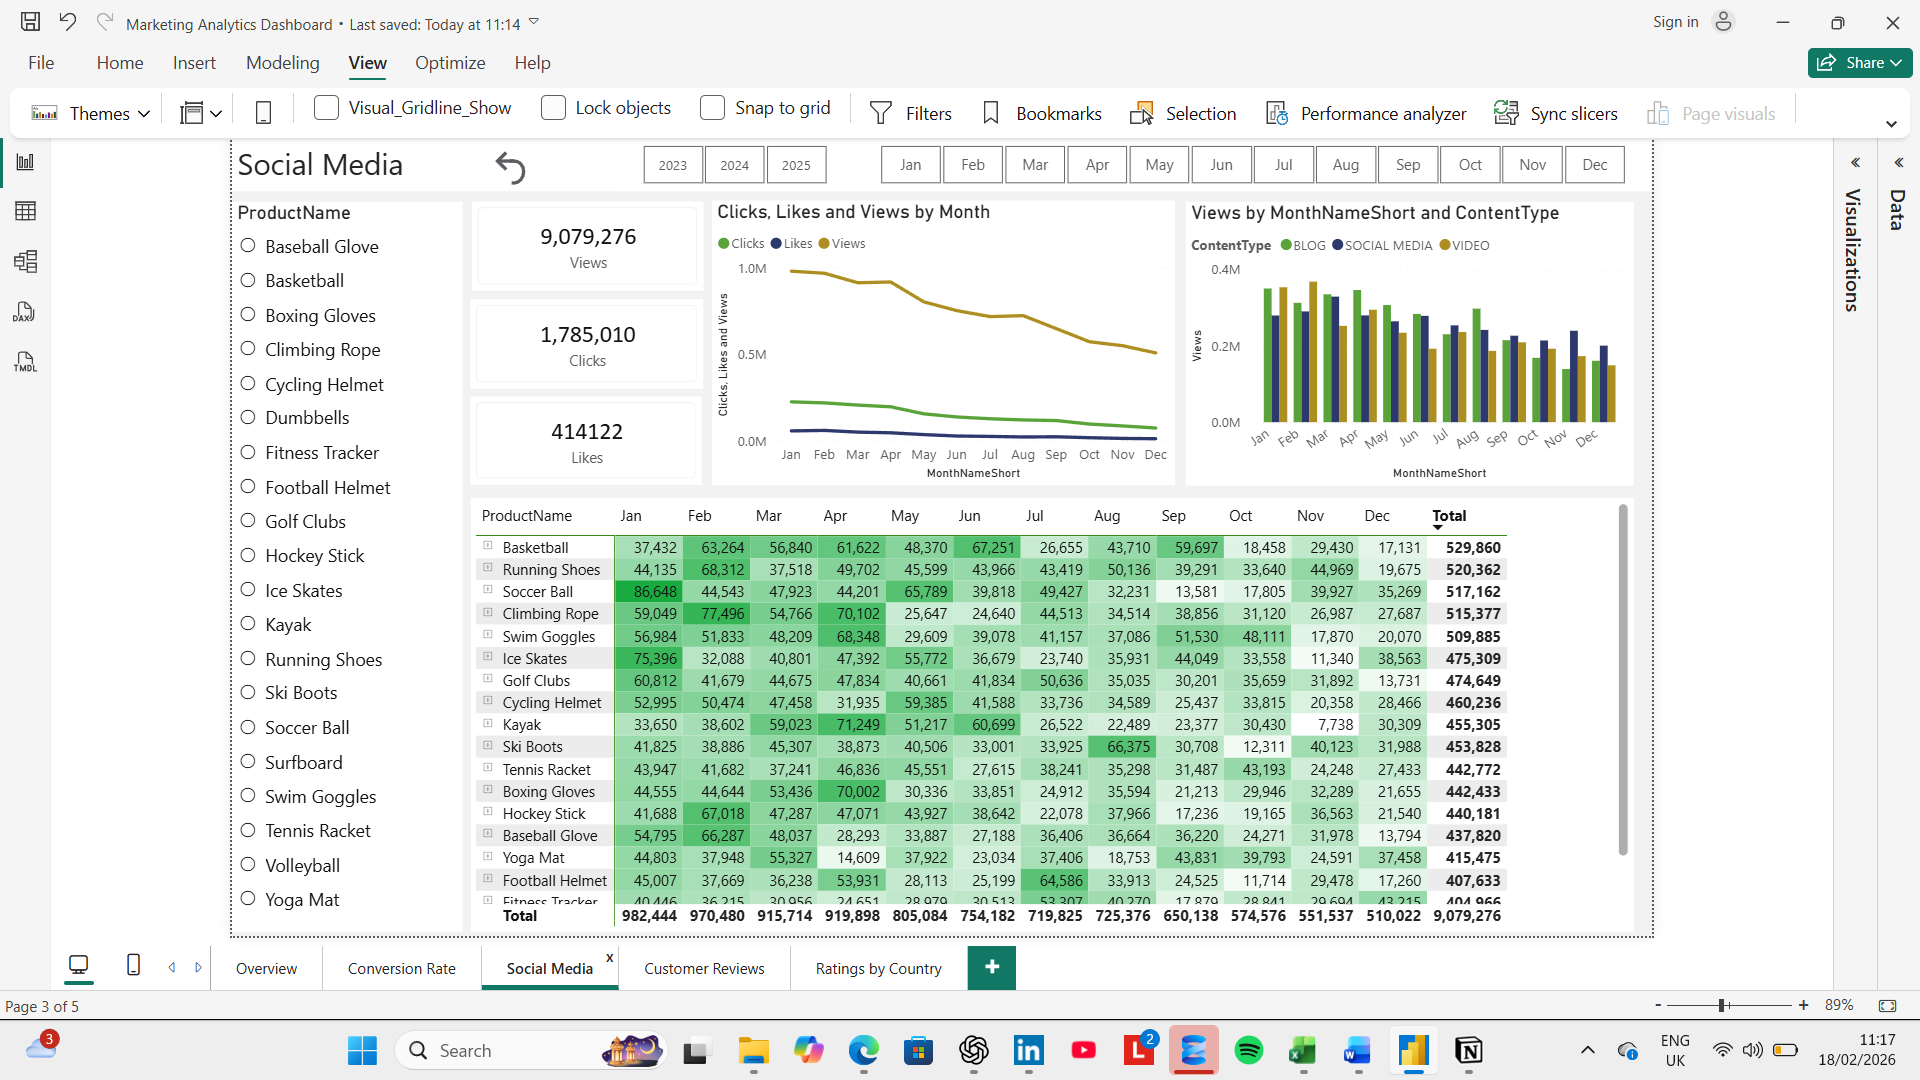

This screenshot's page, from the dashboard's own definition file:
{"tool":"powerbi","page":{"name":"Social Media","canvas":[1280,720],"ordinal":2},"visuals":[{"type":"textbox","box":[0,0,1280,47.7],"z":0},{"type":"listSlicer","fields":{"Values":["dim_products.ProductName"]},"box":[0,57.7,207.7,658.8],"z":1000},{"type":"cardVisual","fields":{"Data":["_Calculations.Views"]},"box":[215.9,57.1,208.5,80],"z":2000},{"type":"cardVisual","fields":{"Data":["_Calculations.Clicks"]},"box":[215.4,145.6,209.2,80.8],"z":3000},{"type":"cardVisual","fields":{"Data":["_Calculations.Likes"]},"box":[215.4,233.7,208,79.5],"z":4000},{"type":"slicer","fields":{"Values":["Calendar.Year"]},"box":[344.6,0,214.9,48.1],"z":5000},{"type":"slicer","fields":{"Values":["Calendar.MonthNameShort"]},"box":[559.5,0,720.9,48.1],"z":6000},{"type":"lineChart","title":"Clicks, Likes and Views by Month","fields":{"Y":["_Calculations.Clicks","_Calculations.Likes","_Calculations.Views"],"Category":["Calendar.MonthNameShort"]},"box":[433.2,56.3,417.3,257],"z":7000},{"type":"clusteredColumnChart","fields":{"Category":["Calendar.MonthNameShort"],"Series":["fact_engagement_data.ContentType"],"Y":["_Calculations.Views"]},"box":[860.2,57.5,403.8,255.7],"z":8000},{"type":"pivotTable","fields":{"Rows":["dim_products.ProductName","fact_engagement_data.ContentType"],"Columns":["Calendar.MonthNameShort"],"Values":["_Calculations.Views"]},"box":[215.4,324.3,1048.7,391.6],"z":9000}]}

Visuals, with their boxes on the page's 1280x720 design canvas (x1, y1, x2, y2). These are canvas units, not pixel positions in the 1920x1080 screenshot, which may show the page scaled, cropped or inside an application window:
textbox: {"left": 0, "top": 0, "right": 1280, "bottom": 48}
listSlicer - dim_products.ProductName: {"left": 0, "top": 58, "right": 208, "bottom": 716}
cardVisual - _Calculations.Views: {"left": 216, "top": 57, "right": 424, "bottom": 137}
cardVisual - _Calculations.Clicks: {"left": 215, "top": 146, "right": 425, "bottom": 226}
cardVisual - _Calculations.Likes: {"left": 215, "top": 234, "right": 423, "bottom": 313}
slicer - Calendar.Year: {"left": 345, "top": 0, "right": 560, "bottom": 48}
slicer - Calendar.MonthNameShort: {"left": 560, "top": 0, "right": 1280, "bottom": 48}
"Clicks, Likes and Views by Month" lineChart: {"left": 433, "top": 56, "right": 850, "bottom": 313}
clusteredColumnChart - Calendar.MonthNameShort x fact_engagement_data.ContentType: {"left": 860, "top": 58, "right": 1264, "bottom": 313}
pivotTable - dim_products.ProductName x fact_engagement_data.ContentType: {"left": 215, "top": 324, "right": 1264, "bottom": 716}
